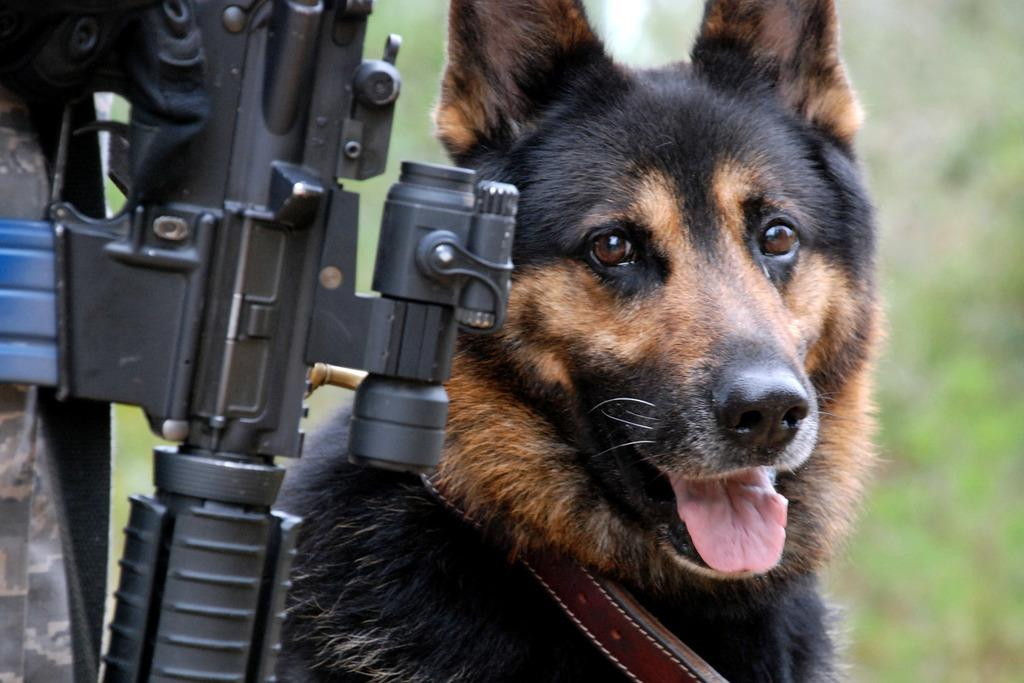weapon: (64, 30, 875, 654)
